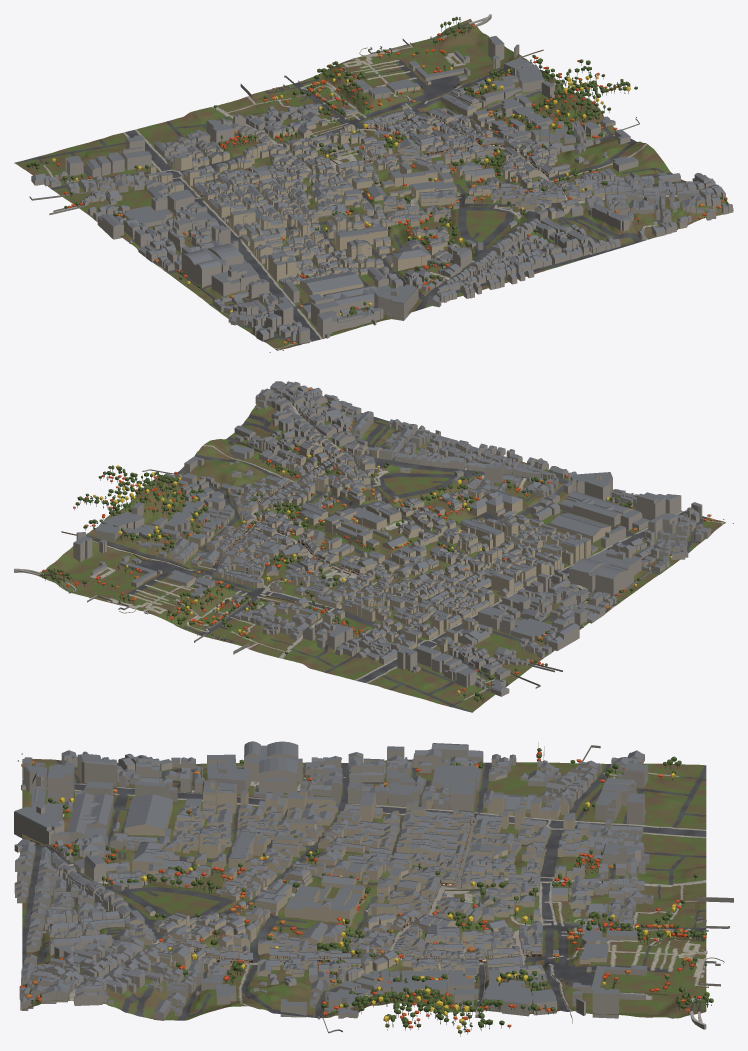
File: world_art.glb
3 renders of one model, top to bottom at view 1: azimuth 30°, elevation 25°; view 2: azimuth 150°, elevation 25°; view 3: azimuth 270°, elevation 25°, orthographic. The views are drawn at different scales.
Visible parts, largest first — view 1: Terrain_GSI_DEM5A, B_ed09b4e0, B_53b8c247, B_e09f68c3, B_90beb08b, B_380733fe, B_a4cdd89f, B_f03b138f, B_3f45d913, B_0f702396, B_79e2b051, B_964efb15 (+3 smaller); view 2: Terrain_GSI_DEM5A, B_ed09b4e0, B_f03b138f, B_e09f68c3, B_53b8c247, B_a4cdd89f, B_0f702396, B_3f45d913, B_79e2b051, B_cbf226b5, B_8c7e15e9, B_380733fe; view 3: Terrain_GSI_DEM5A, B_ed09b4e0, B_e09f68c3, B_53b8c247, B_f03b138f, B_a4cdd89f, B_3f45d913, B_90beb08b, B_0f702396, B_f4f16543, B_cbf226b5, B_79e2b051 (+24 smaller).
Boxes of the visible parts, x1,y1,x2,y2 form: Terrain_GSI_DEM5A: (14, 18, 733, 350); B_ed09b4e0: (181, 244, 243, 287); B_53b8c247: (374, 284, 418, 320); B_e09f68c3: (401, 163, 456, 198); B_90beb08b: (211, 262, 258, 296); B_380733fe: (317, 307, 383, 338); B_a4cdd89f: (300, 271, 363, 296); B_f03b138f: (323, 285, 394, 310); B_3f45d913: (504, 58, 544, 92); B_0f702396: (392, 239, 430, 271); B_79e2b051: (334, 226, 387, 250); B_964efb15: (440, 89, 485, 116); Terrain_GSI_DEM5A: (34, 396, 725, 712); B_ed09b4e0: (569, 558, 633, 595); B_f03b138f: (558, 491, 630, 526); B_e09f68c3: (324, 507, 386, 543); B_53b8c247: (564, 472, 612, 500); B_a4cdd89f: (550, 513, 610, 542); B_0f702396: (468, 490, 522, 516); B_3f45d913: (95, 511, 144, 541); B_79e2b051: (460, 518, 504, 549); B_cbf226b5: (635, 492, 665, 520); B_8c7e15e9: (510, 618, 551, 641); B_380733fe: (611, 489, 681, 514); Terrain_GSI_DEM5A: (22, 759, 706, 1020); B_ed09b4e0: (244, 741, 302, 794); B_e09f68c3: (284, 885, 361, 927); B_53b8c247: (14, 803, 69, 844); B_f03b138f: (67, 792, 113, 841); B_a4cdd89f: (124, 794, 172, 835); B_3f45d913: (483, 985, 556, 1016); B_90beb08b: (207, 754, 250, 793); B_0f702396: (132, 841, 191, 875); B_f4f16543: (79, 754, 117, 785); B_cbf226b5: (47, 763, 74, 804); B_79e2b051: (228, 831, 266, 870).
Bounding box in the file's own units: 696 × 63.34 × 632.
13 materials, 8 textured.
